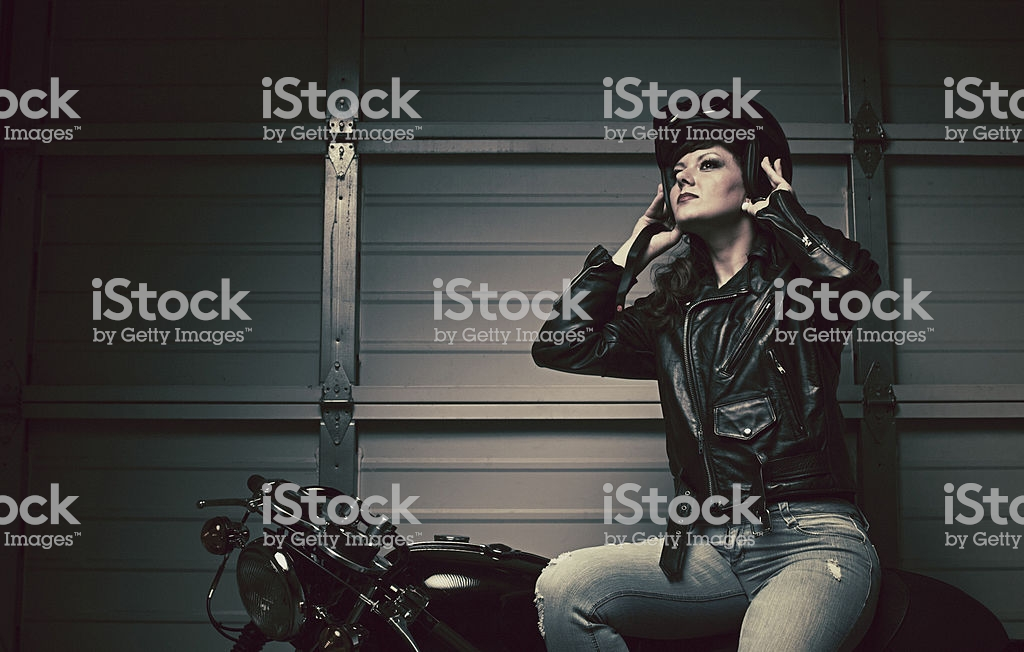helmet: (646, 79, 808, 227)
